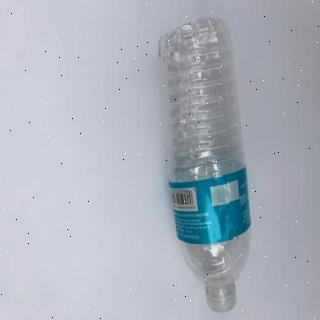Plastic-bottle: (157, 15, 255, 315)
